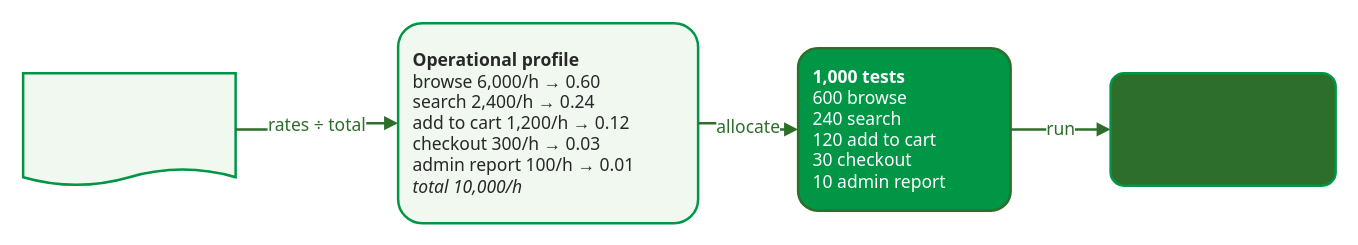
This 1358x245 diagram has some shape labels left out. The centre of each missing label's shape, as x and y in pixels:
"Share of failing runs × field runs per hour = expected failures per hour" goes at point (1222, 128).
"Usage data logs, telemetry, surveys, expert estimates" goes at point (128, 128).
